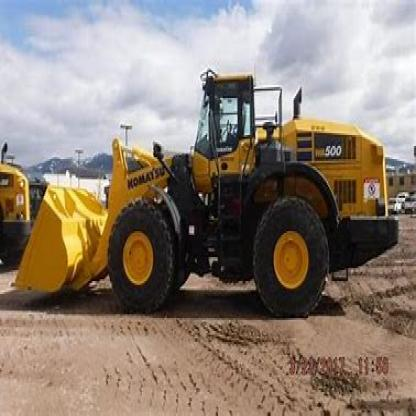bull_dozer/loader/grader: (14, 66, 408, 320)
